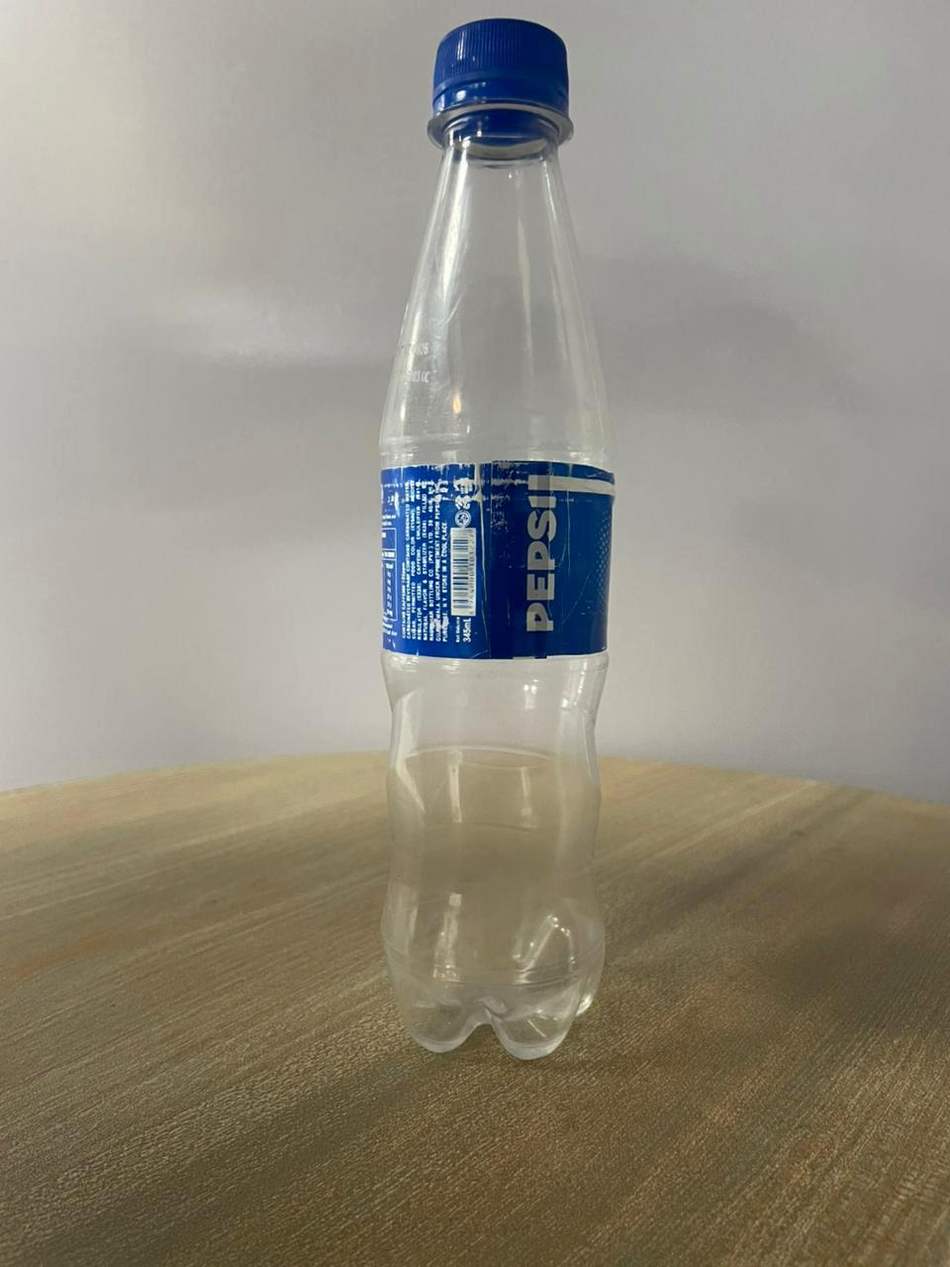Pepsi Bottle: (361, 20, 641, 1065), (366, 15, 633, 1069)
